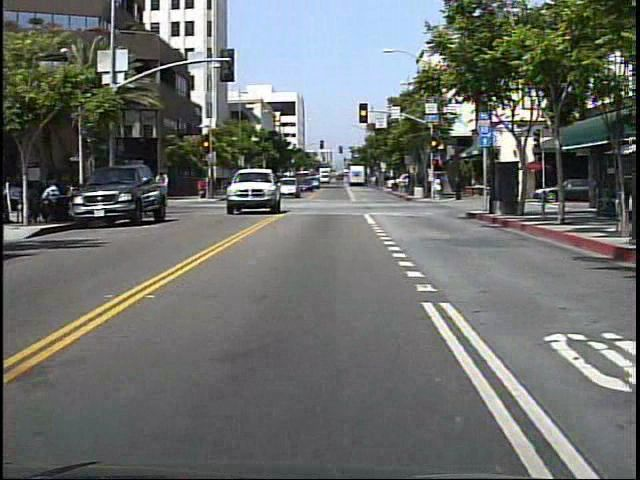person: (152, 168, 174, 205), (451, 172, 466, 205), (432, 175, 444, 199), (198, 175, 209, 199)
